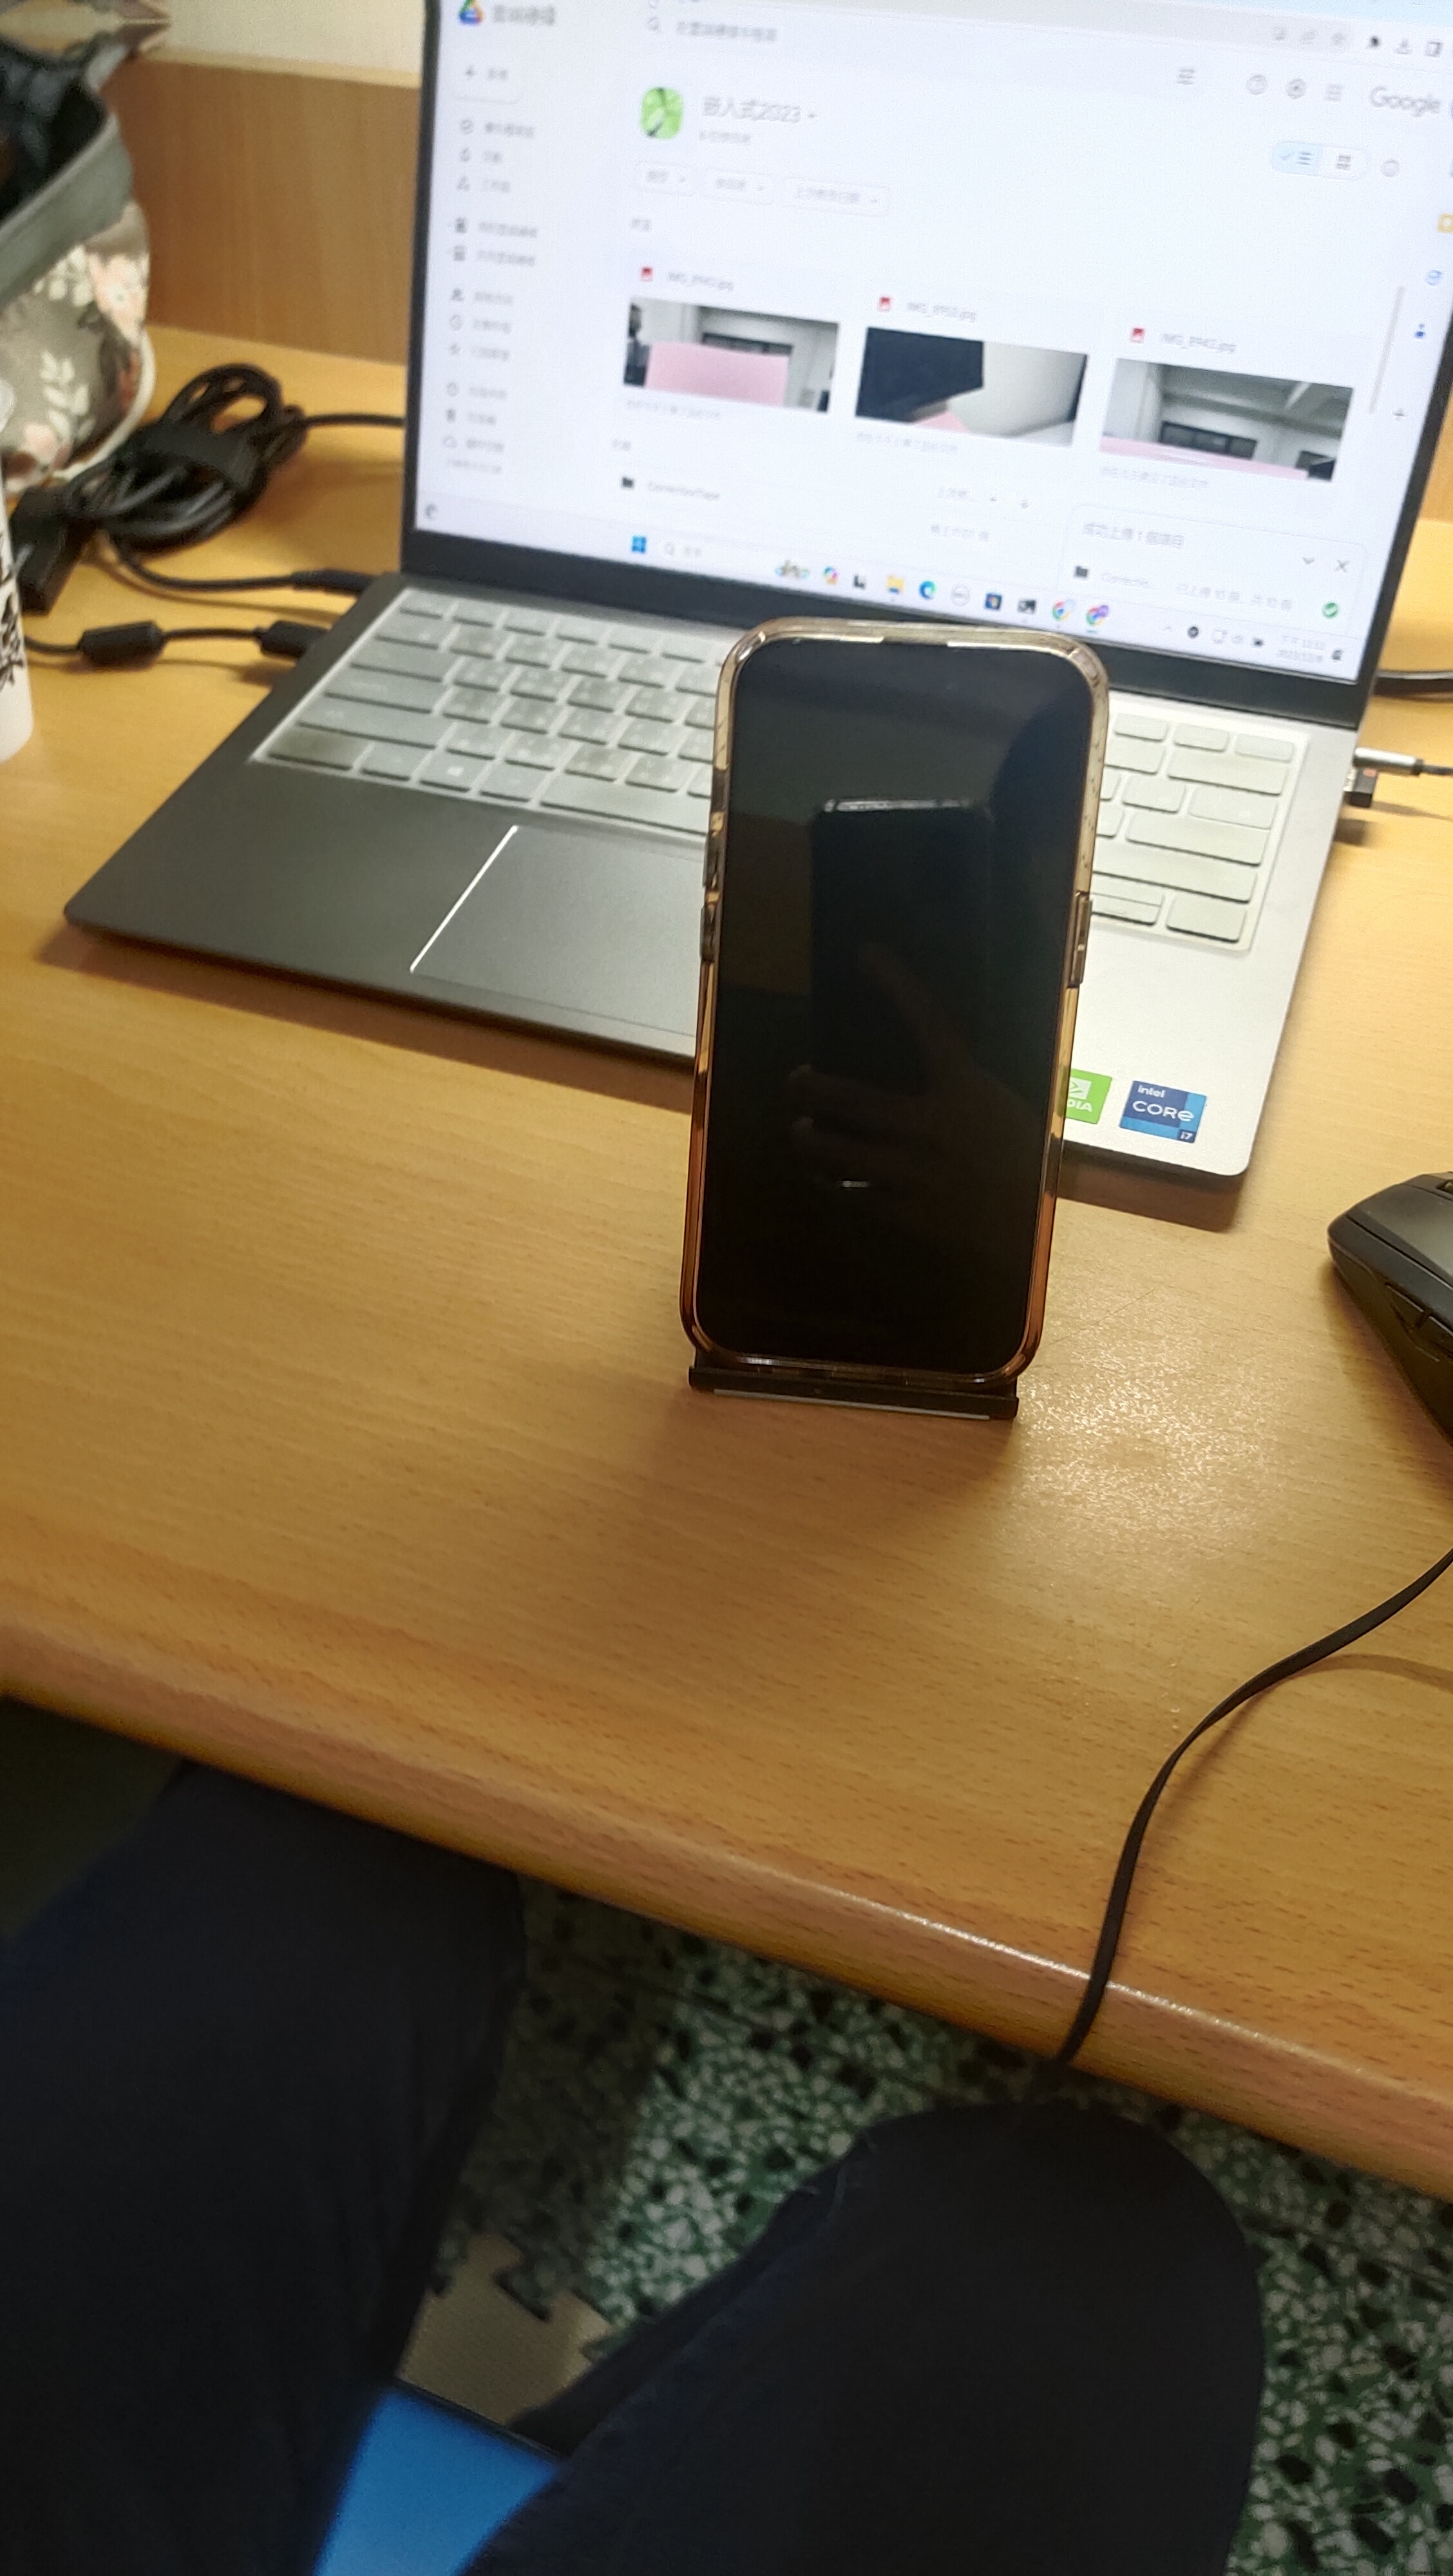iphone: (671, 614, 1115, 1380)
